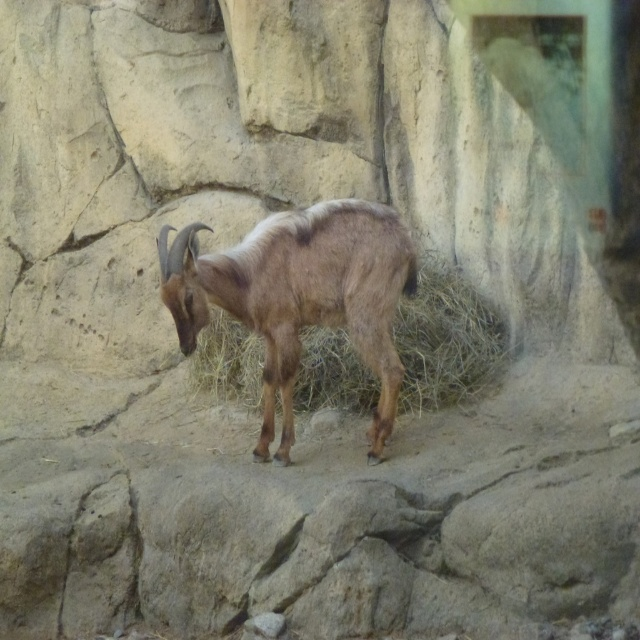Goat: (157, 180, 423, 471)
